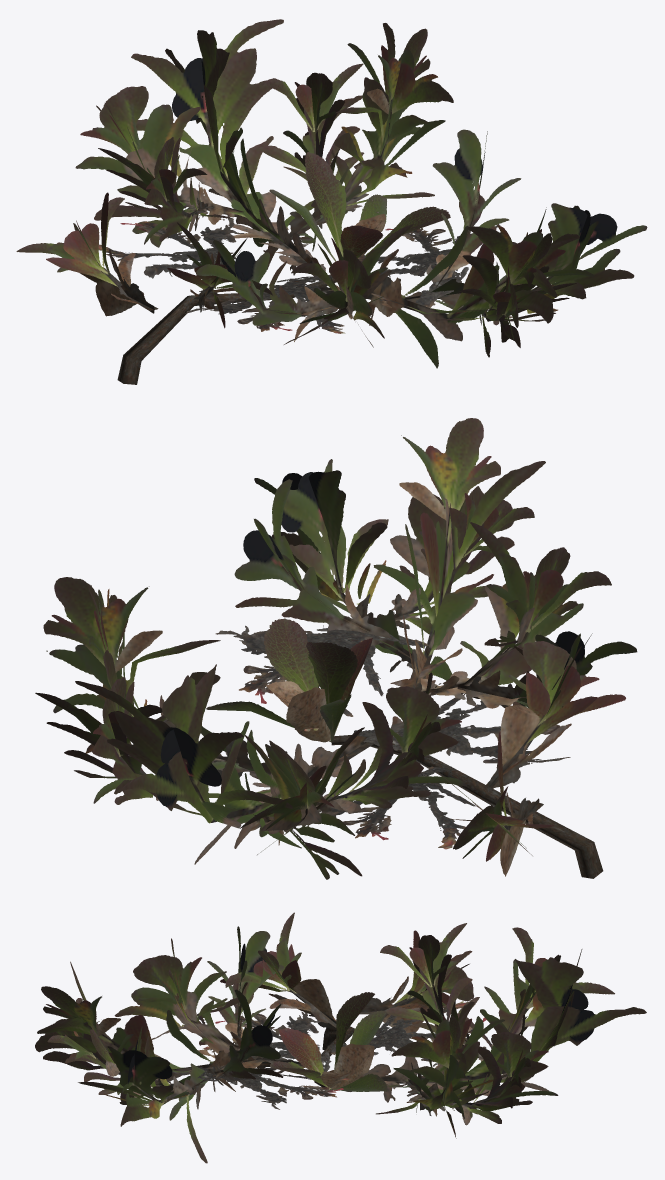
Rendered from static.fbx.
The picture shows the model from 3 angles, top to bottom: view 1: azimuth 30°, elevation 25°; view 2: azimuth 150°, elevation 25°; view 3: azimuth 270°, elevation 25°; orthographic projection. The views are drawn at different scales.
Visible parts, largest first — view 1: _srll_Var7_LOD4; view 2: _srll_Var7_LOD4; view 3: _srll_Var7_LOD4.
Boxes of the visible parts, left/top/right/bottom form: _srll_Var7_LOD4: left=16, top=19, right=647, bottom=384; _srll_Var7_LOD4: left=35, top=418, right=637, bottom=879; _srll_Var7_LOD4: left=35, top=912, right=646, bottom=1163.
Size of the model in its own units: 77.79 by 38.7 by 112.
Materials: 1 (1 with a texture image).
